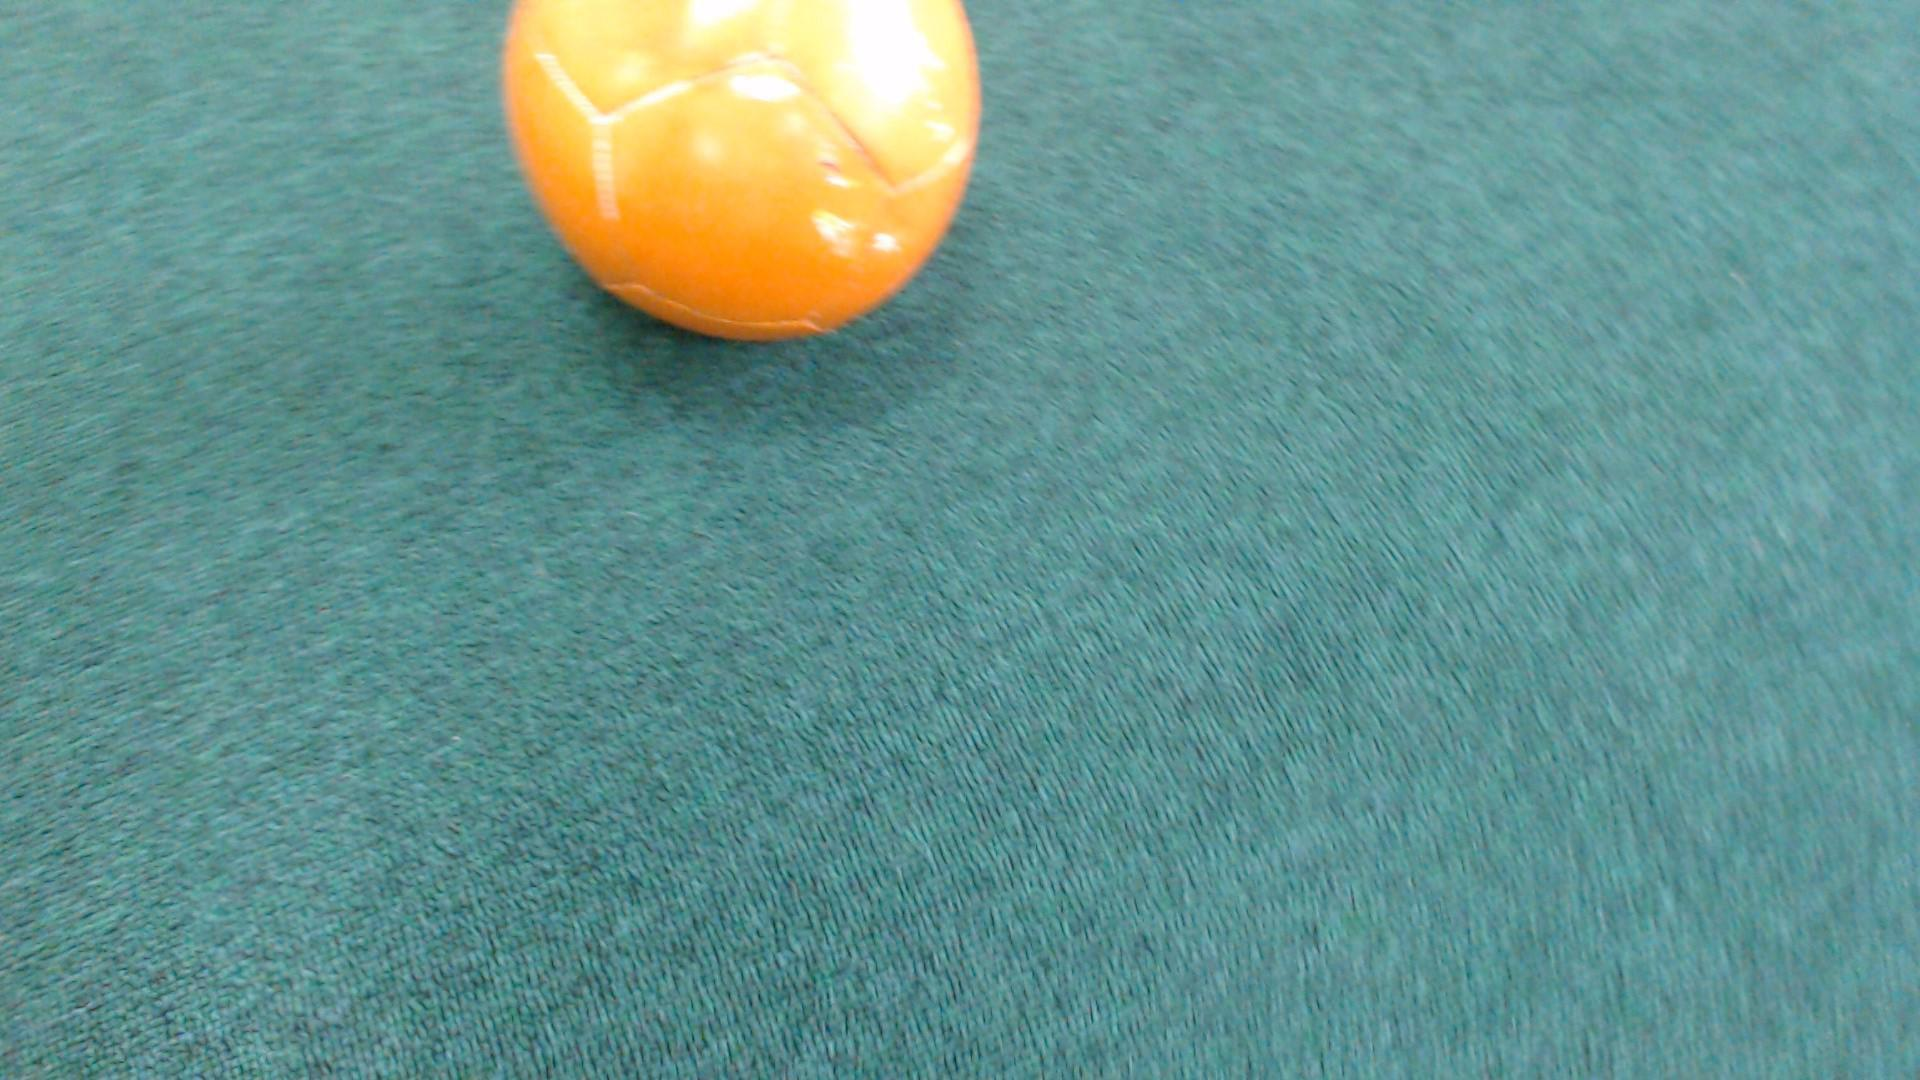bola: (442, 0, 1015, 373)
